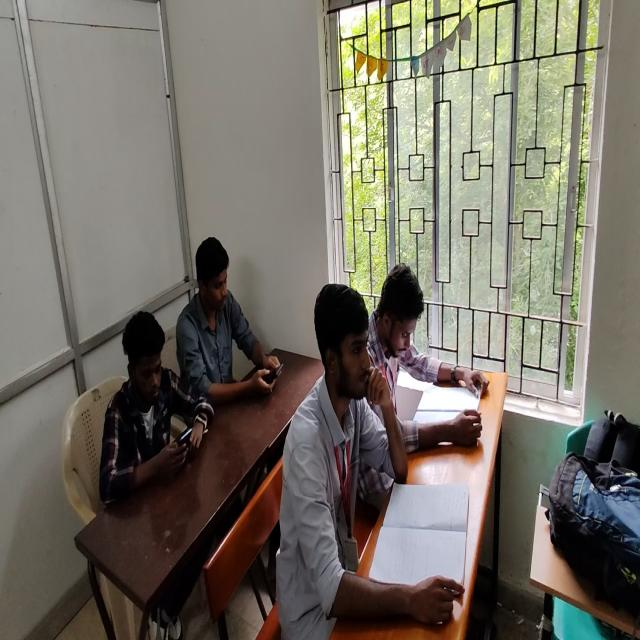reading: (292, 284, 408, 640), (363, 262, 485, 503)
using_mobile: (100, 307, 218, 506), (175, 237, 279, 427)
